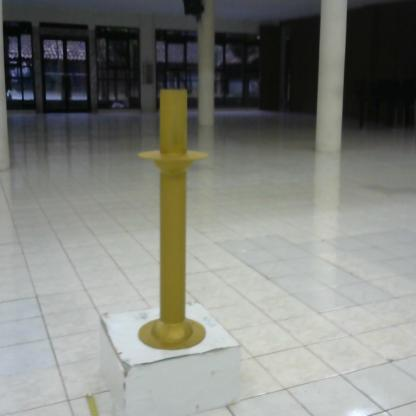pole: (127, 79, 218, 357)
